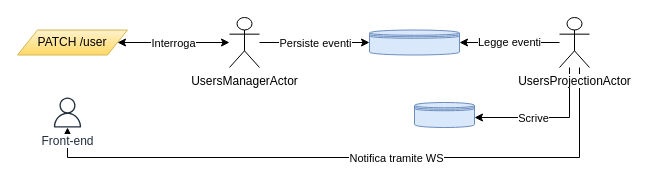
Some shapes in this 648 by 183 pixel diagram are drawn without their labels. The shapes that lost their labels are listed below. From the top down, each one's centre as x and y in pixels, then its label:
At (414,42): "Akka Journal".
At (444,115): "users".
